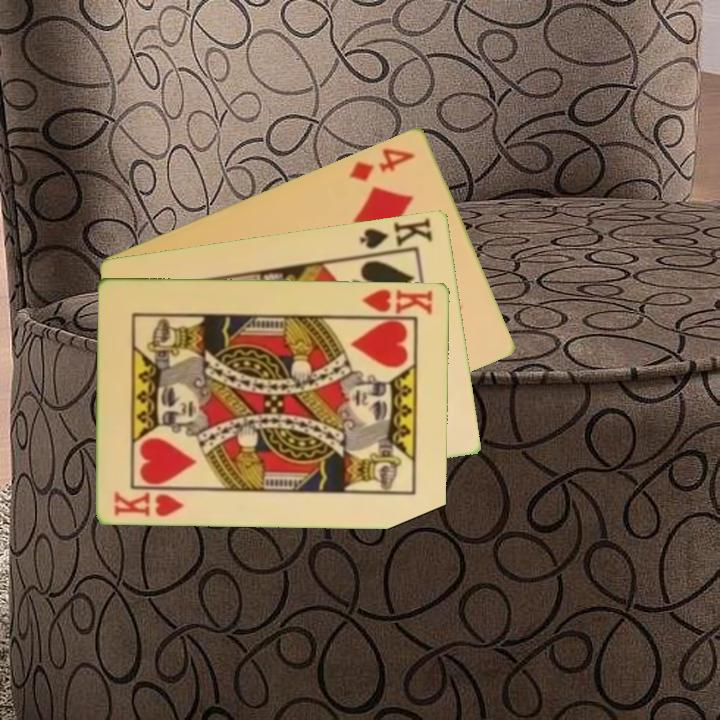4d: (345, 144, 418, 184)
Kh: (355, 285, 436, 320), (111, 487, 187, 519)
Ks: (356, 214, 436, 252)
